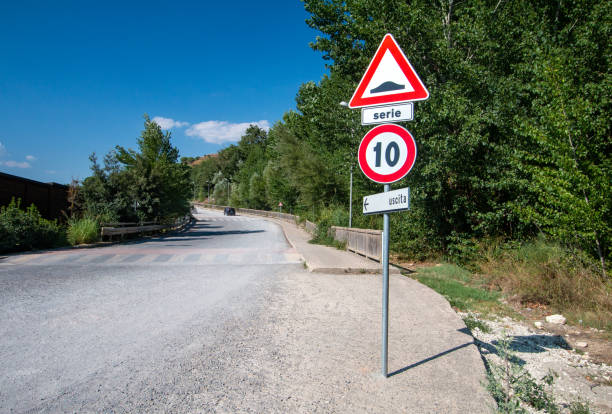speed-breaker: (355, 34, 429, 99)
